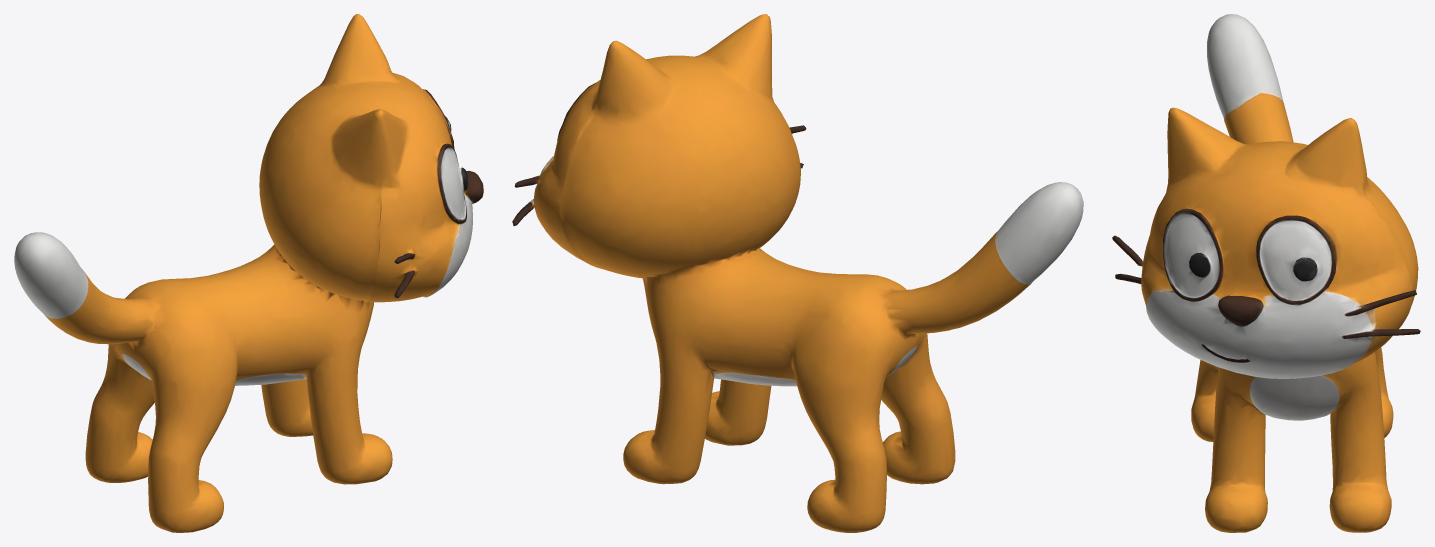
File: SCRATCHC.glb
The picture shows the model from 3 angles, left to right: view 1: azimuth 30°, elevation 25°; view 2: azimuth 150°, elevation 25°; view 3: azimuth 270°, elevation 25°; orthographic projection. The views are drawn at different scales.
Parts seen in each view (by area): view 1: tripo_node_3ed5d97e-5c80-4d3c-a0c6-e084f68d9d27; view 2: tripo_node_3ed5d97e-5c80-4d3c-a0c6-e084f68d9d27; view 3: tripo_node_3ed5d97e-5c80-4d3c-a0c6-e084f68d9d27.
Boxes of the visible parts, box(x1,y1,x2,y2) form: tripo_node_3ed5d97e-5c80-4d3c-a0c6-e084f68d9d27: box(14, 14, 483, 532); tripo_node_3ed5d97e-5c80-4d3c-a0c6-e084f68d9d27: box(512, 14, 1083, 532); tripo_node_3ed5d97e-5c80-4d3c-a0c6-e084f68d9d27: box(1112, 14, 1420, 532).
Size of the model in its own units: 1.21 by 1 by 0.6455.
Materials: 1 (1 with a texture image).
